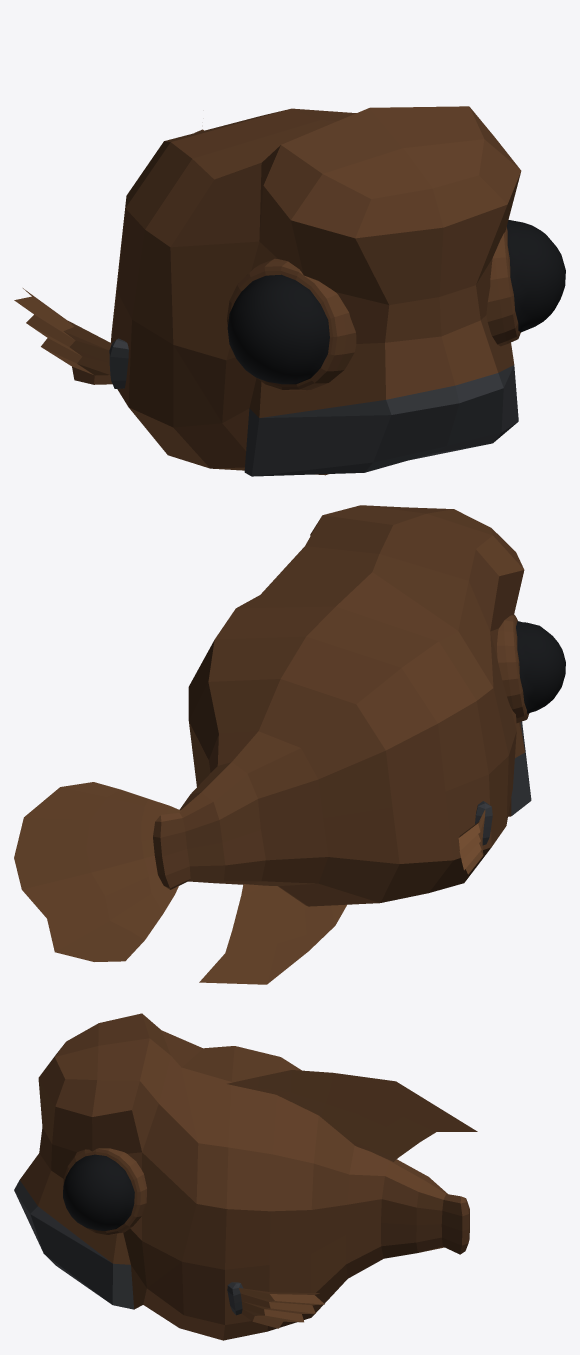
File: cc0-flower-horn-lod0.glb
3 views of the same model, one above another, from view 1: azimuth 30°, elevation 25°; view 2: azimuth 150°, elevation 25°; view 3: azimuth 270°, elevation 25° (orthographic). The views are drawn at different scales.
Visible parts, largest first — view 1: part_0; view 2: part_0; view 3: part_0.
Part boxes in pixels (x1,y1,x2,y2): part_0: (14,106,565,476); part_0: (14,505,565,984); part_0: (14,1013,477,1340).
Size of the model in its own units: 3.16 by 3 by 5.04.
